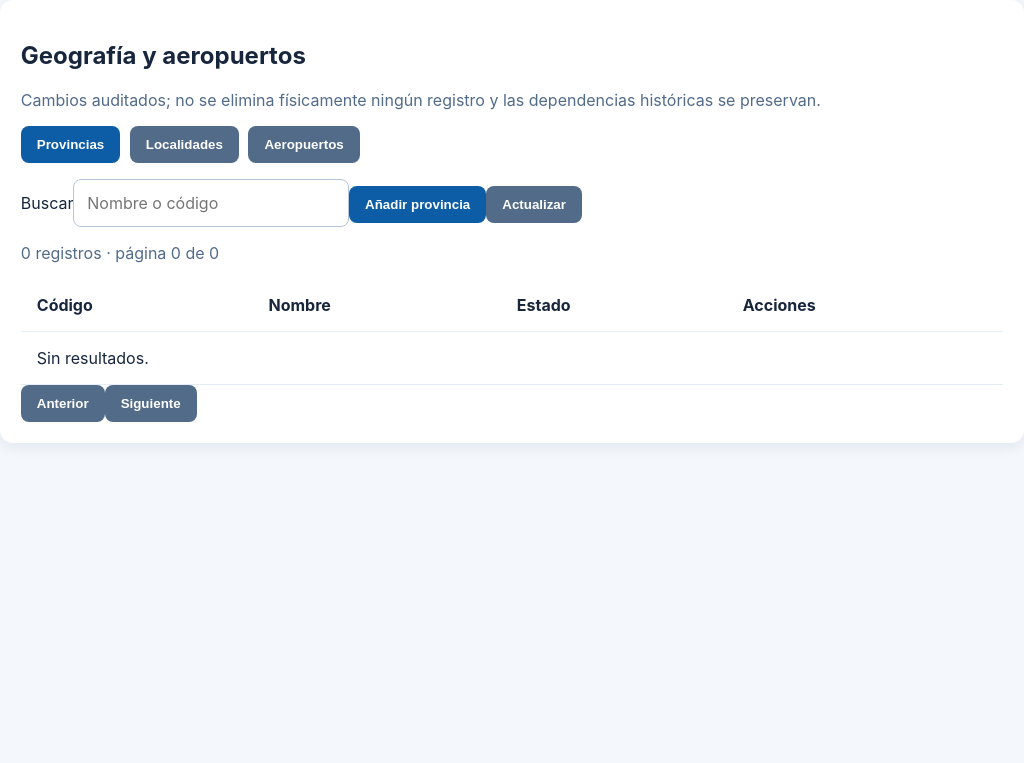
Test: distingue la baja posible, la bloqueada por una referencia vigente y la inactiva que conserva historia
This screenshot has width=1024, height=763.
Click the button "Aeropuertos": [304, 144] box x1=248 y1=126 x2=360 y2=163
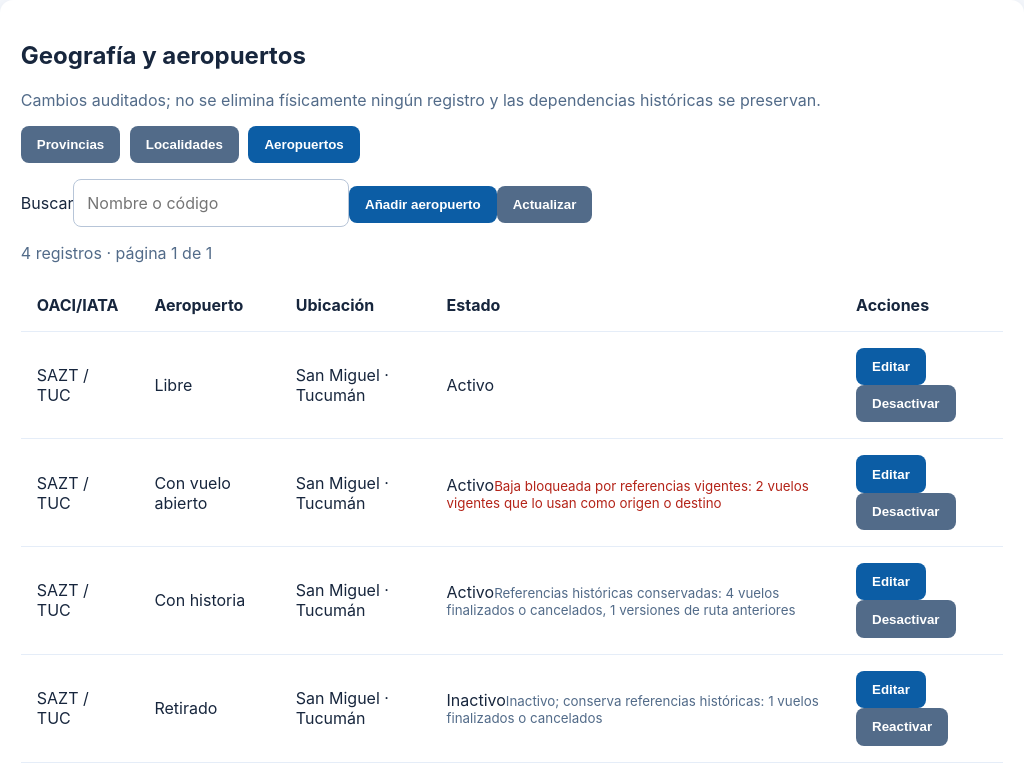
Expected: the button "Desactivar" in the row of "Libre" is enabled, x1=856 y1=385 x2=956 y2=422
Expected: the button "Desactivar" below "Baja bloqueada por referencias vigentes:" is disabled, x1=856 y1=493 x2=956 y2=530
Expected: the text with test id "geo-blocked" shows "2 vuelos vigentes que lo usan como origen o destino", x1=447 y1=478 x2=809 y2=511
